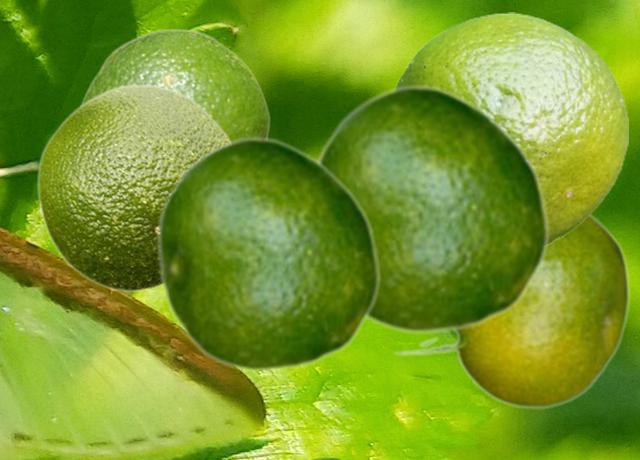calamansi: (314, 83, 550, 334), (392, 12, 627, 246), (155, 135, 381, 372), (392, 214, 629, 408), (36, 83, 230, 292), (79, 28, 269, 138)
